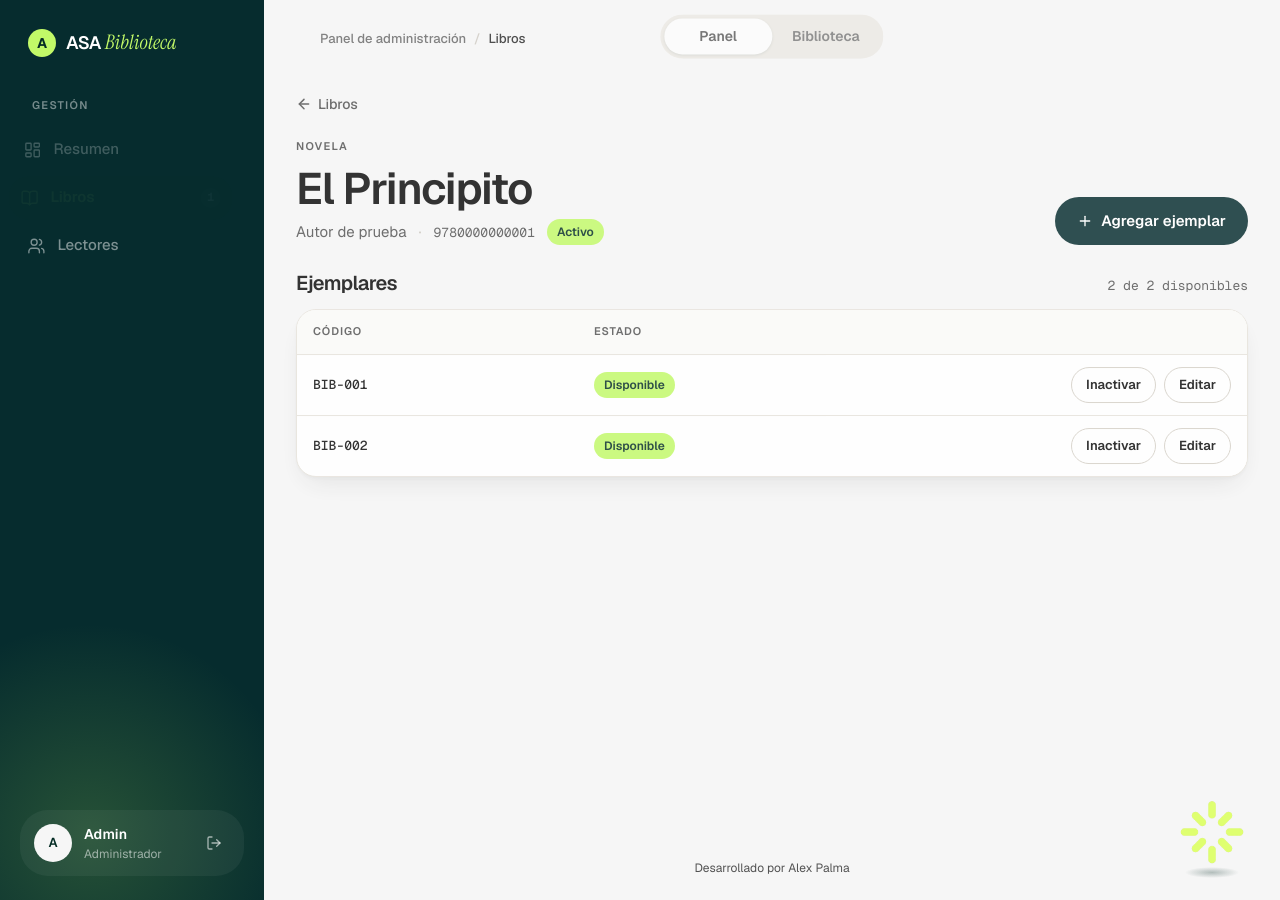
Test: admin: editar e inactivar ejemplares › valida con Zod antes de enviar y muestra en el campo el código duplicado del backend
The image size is (1280, 900).
Step 1. Click the button with aria-label "Editar BIB-001" → (1198, 385), box [1164,367,1231,403]
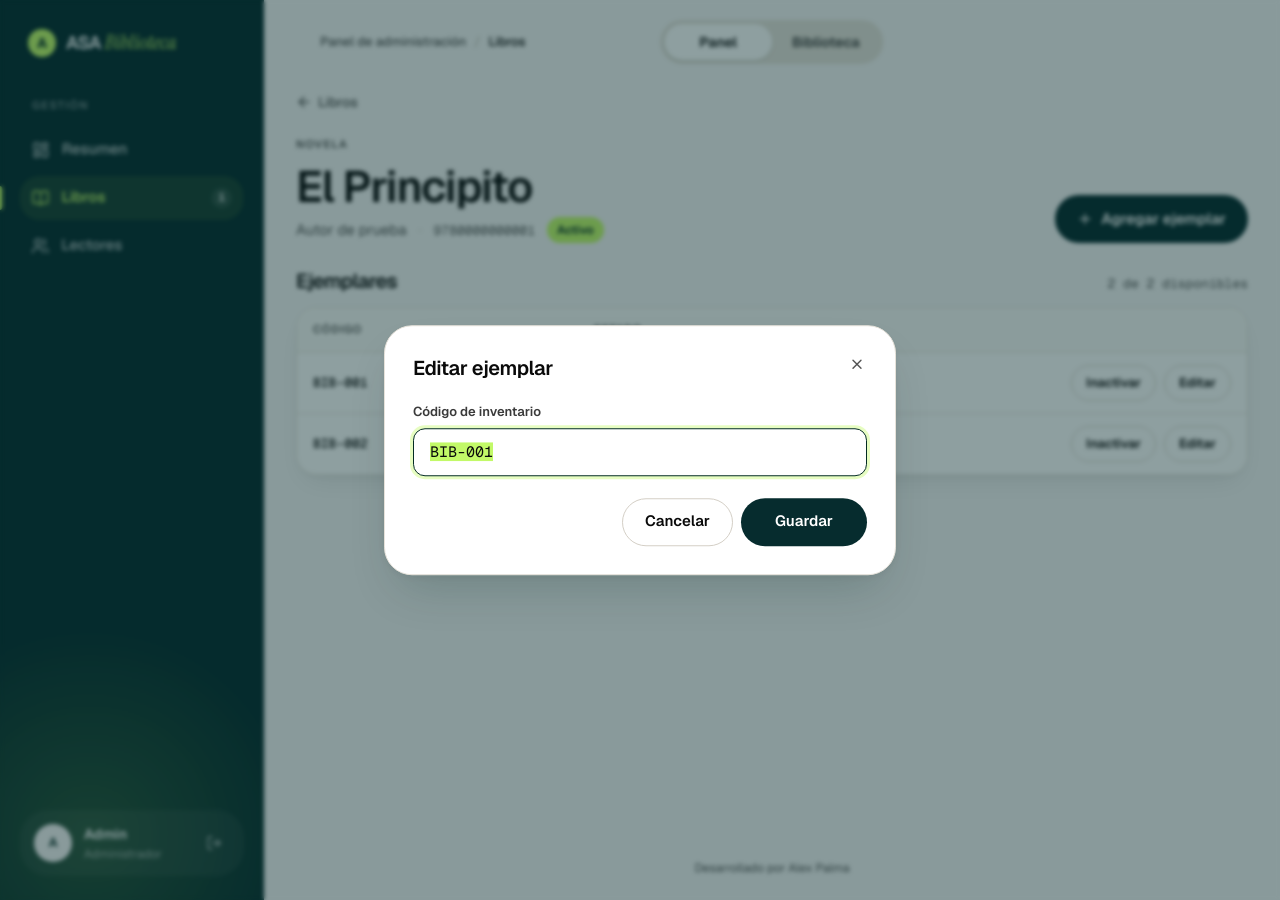
Step 2. Clear the field labelled "Código de inventario" → (640, 452), box [413,428,867,476]
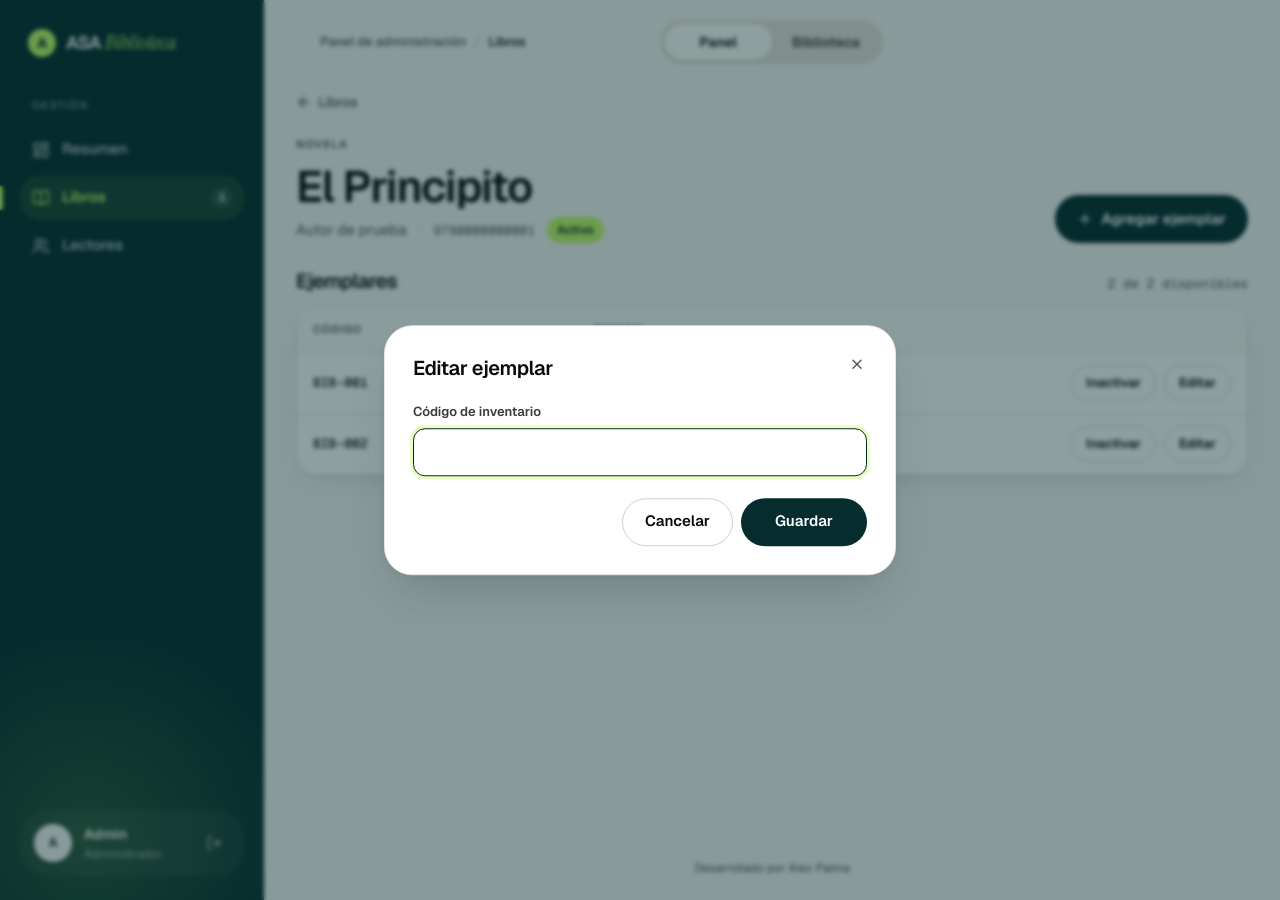
Step 3. Click the button "Guardar" → (804, 522), box [741,498,867,546]
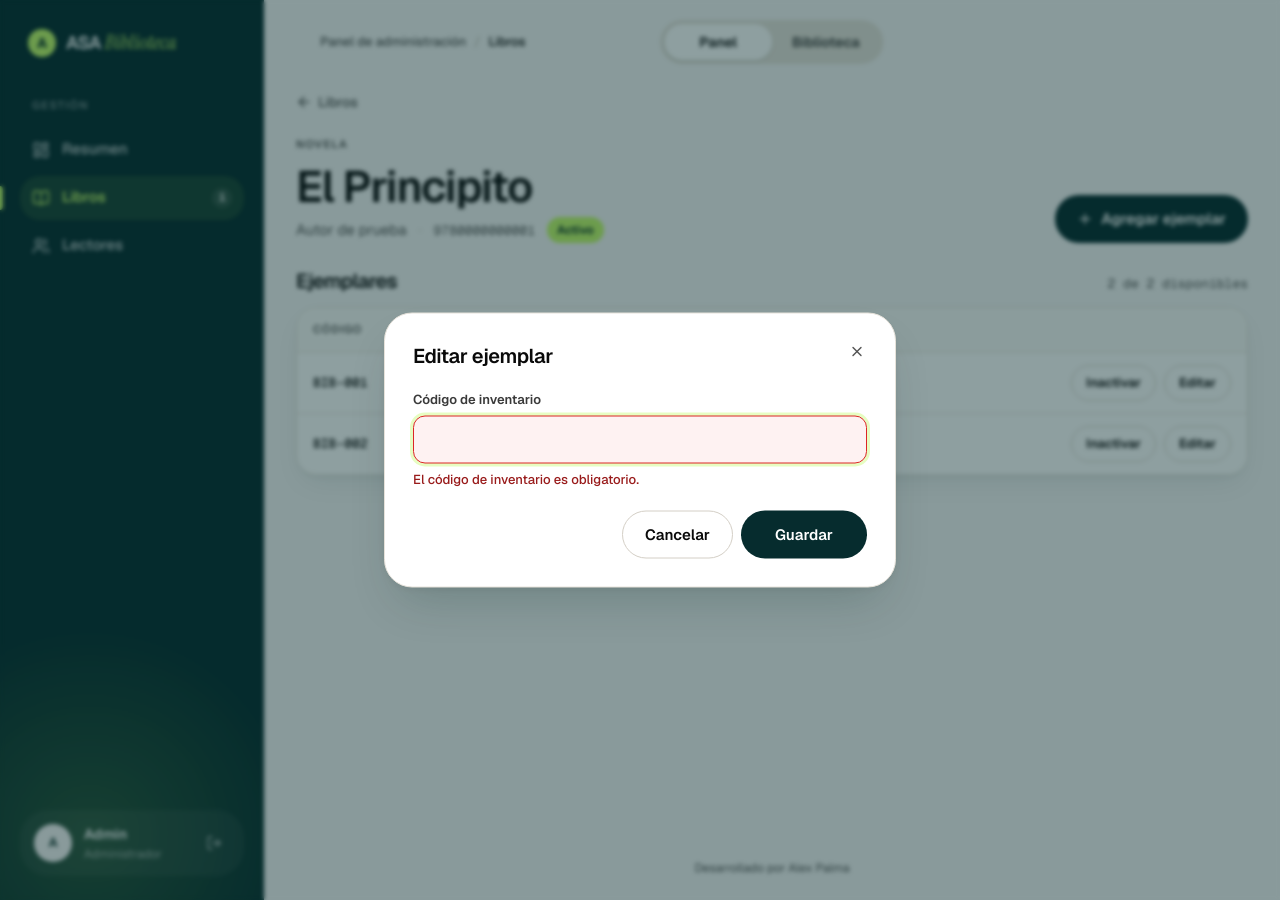
Check: the text "El código de inventario es obligatorio." is shown, box [413,470,639,487]
Step 4. Type "BIB-002" into the field labelled "Código de inventario" → (640, 439), box [413,415,867,463]
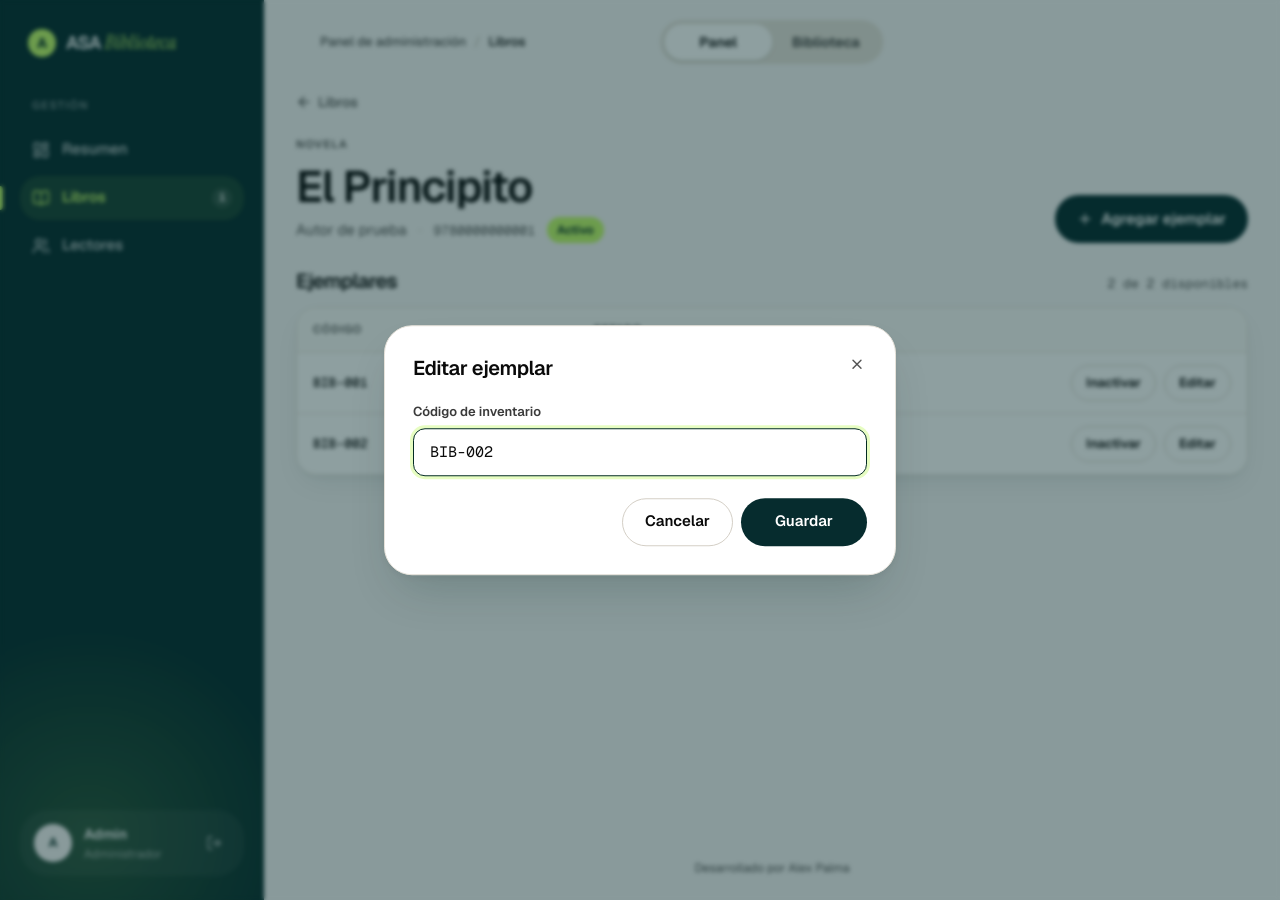
Step 5. Click the button "Guardar" → (804, 522), box [741,498,867,546]
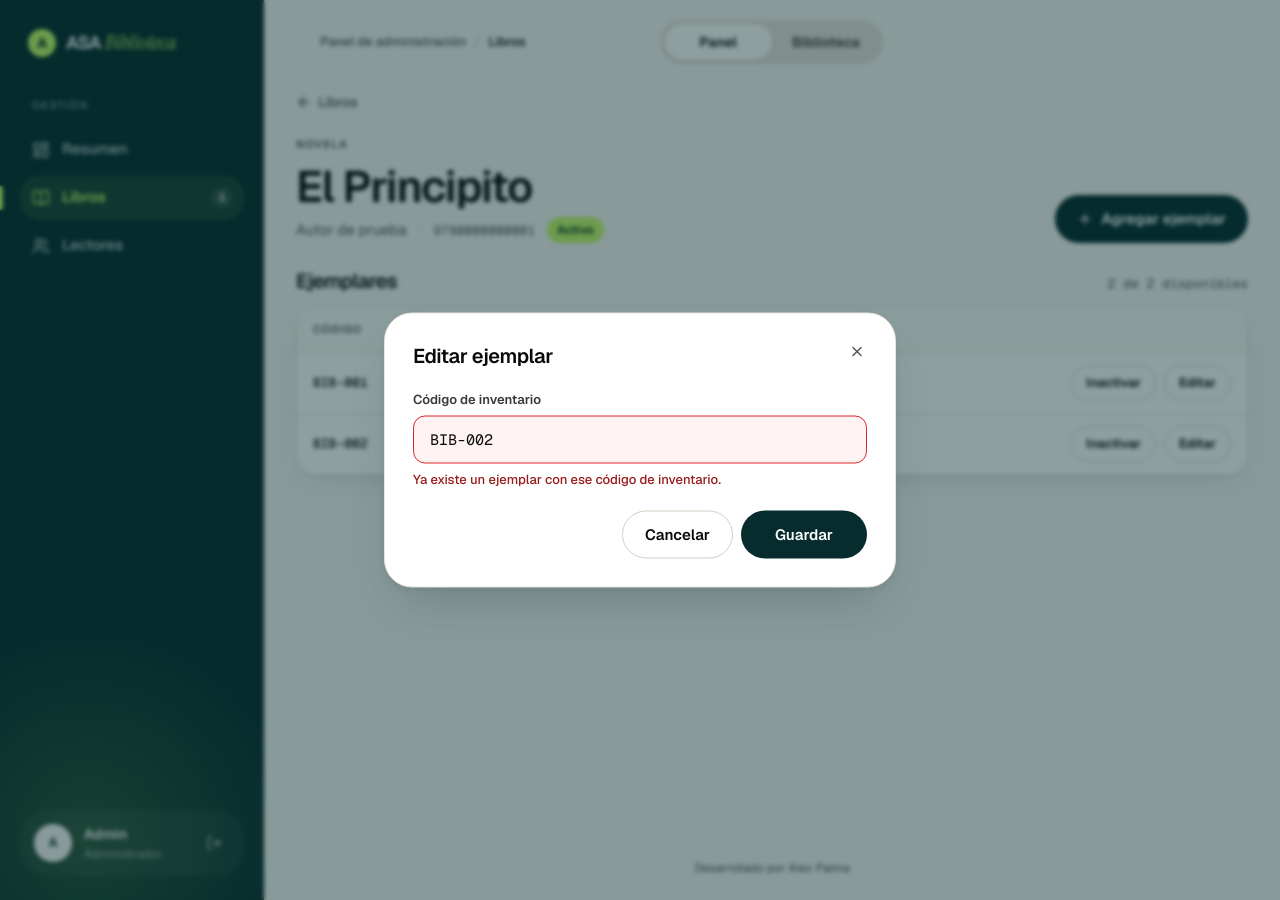
Check: the text "Ya existe un ejemplar con ese código de inventario." is shown, box [413,470,721,487]
